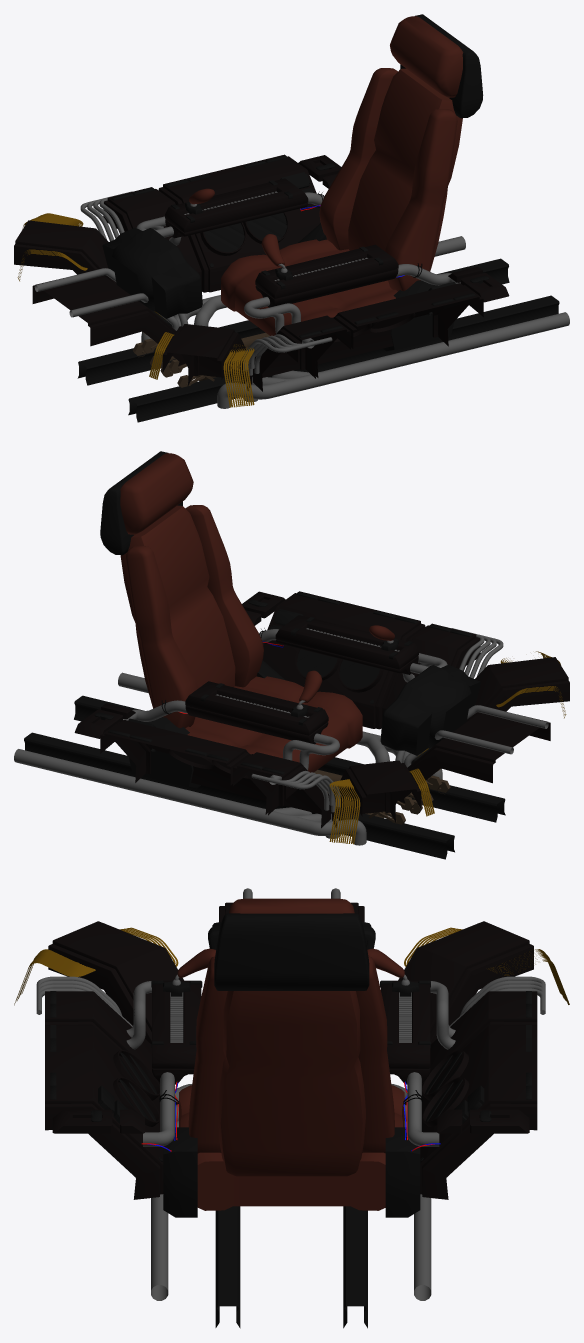
Rendered from Seat.FBX.
3 views of the same model, one above another, from view 1: azimuth 30°, elevation 25°; view 2: azimuth 150°, elevation 25°; view 3: azimuth 270°, elevation 25° (orthographic). The views are drawn at different scales.
Parts seen in each view (by area): view 1: Box001; view 2: Box001; view 3: Box001.
Part boxes in pixels (x1,y1,x2,y2): Box001: (14, 14, 569, 422); Box001: (14, 451, 569, 859); Box001: (14, 888, 569, 1328).
Size of the model in its own units: 579 by 342 by 463.
